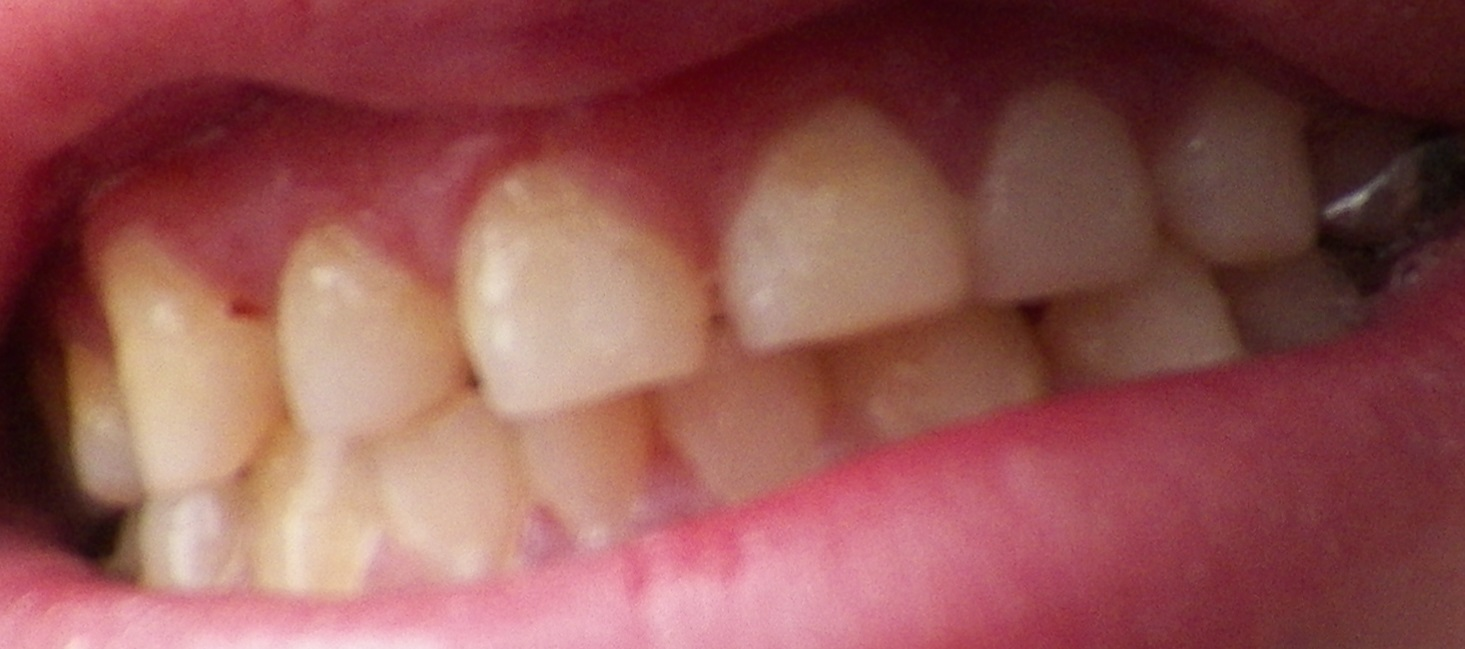boca: (28, 84, 1390, 593)
